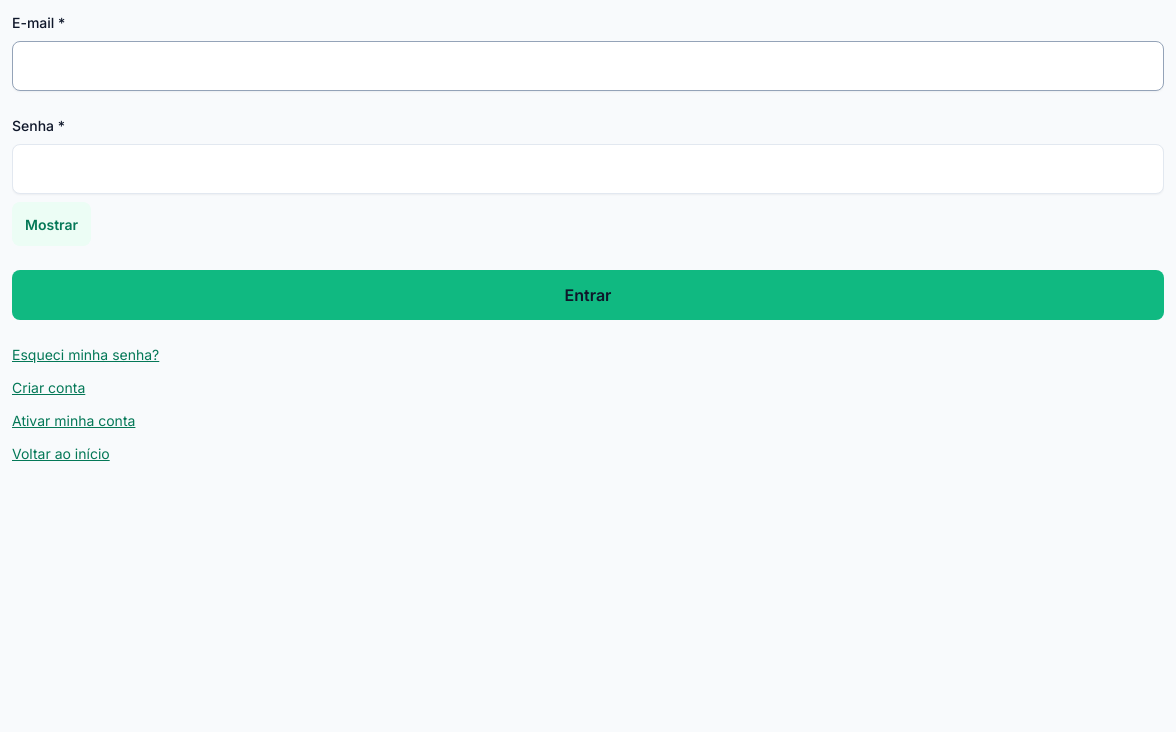
login form › shows a safe error for {"name":"ApiError","kind":"http","status":403}
This screenshot has width=1176, height=732.
Type "test@example.com" into the field labelled "E-mail *" at (588, 66), box [12, 41, 1164, 91]
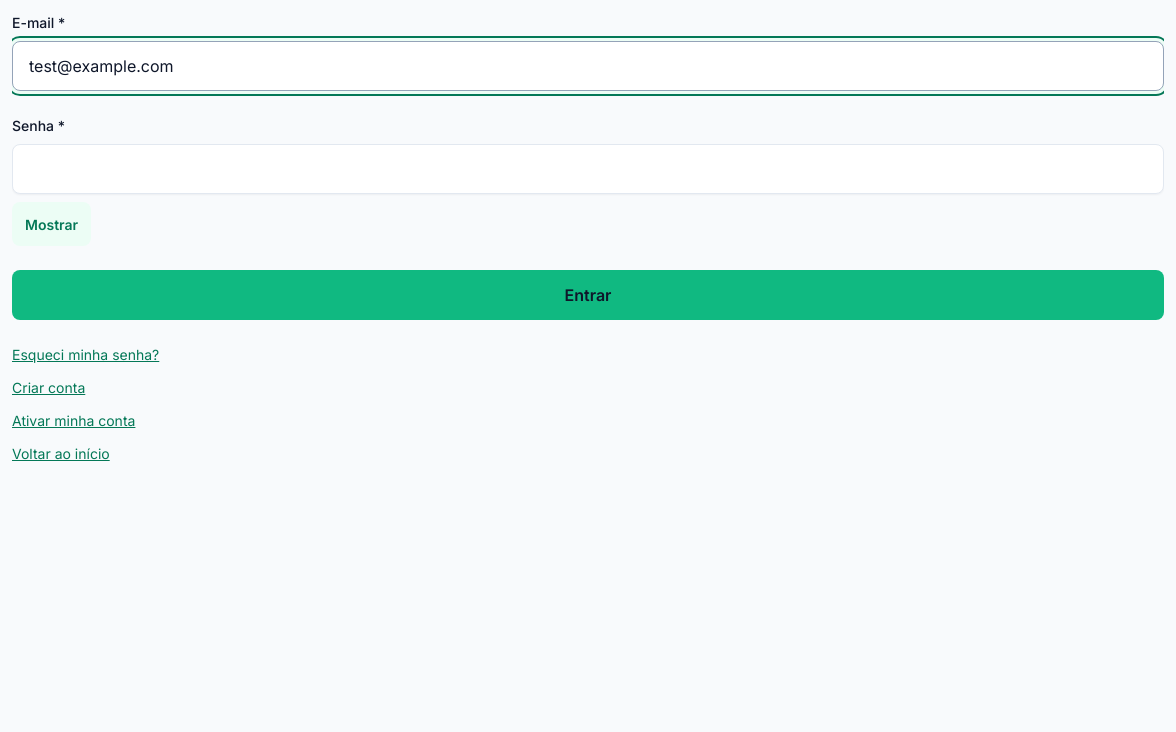
Type "synthetic-password" into the password field labelled "Senha *" at (588, 169), box [12, 144, 1164, 194]
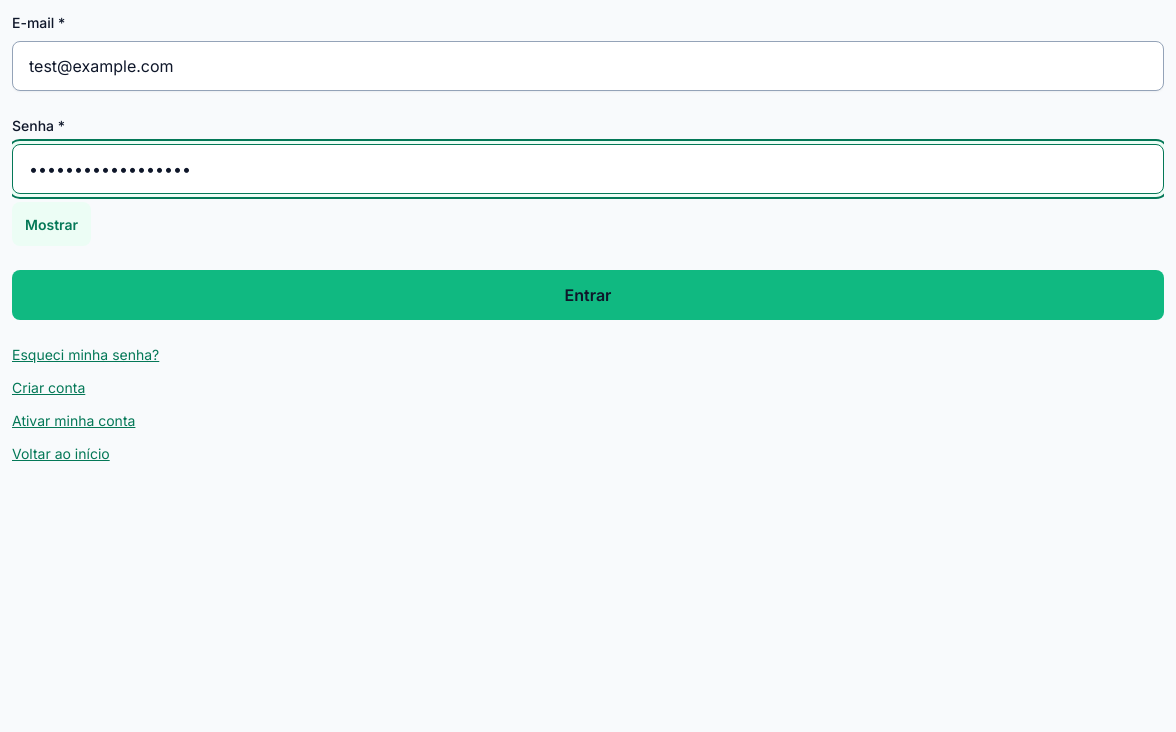
Click the button "Entrar" at (588, 295), box [12, 270, 1164, 320]
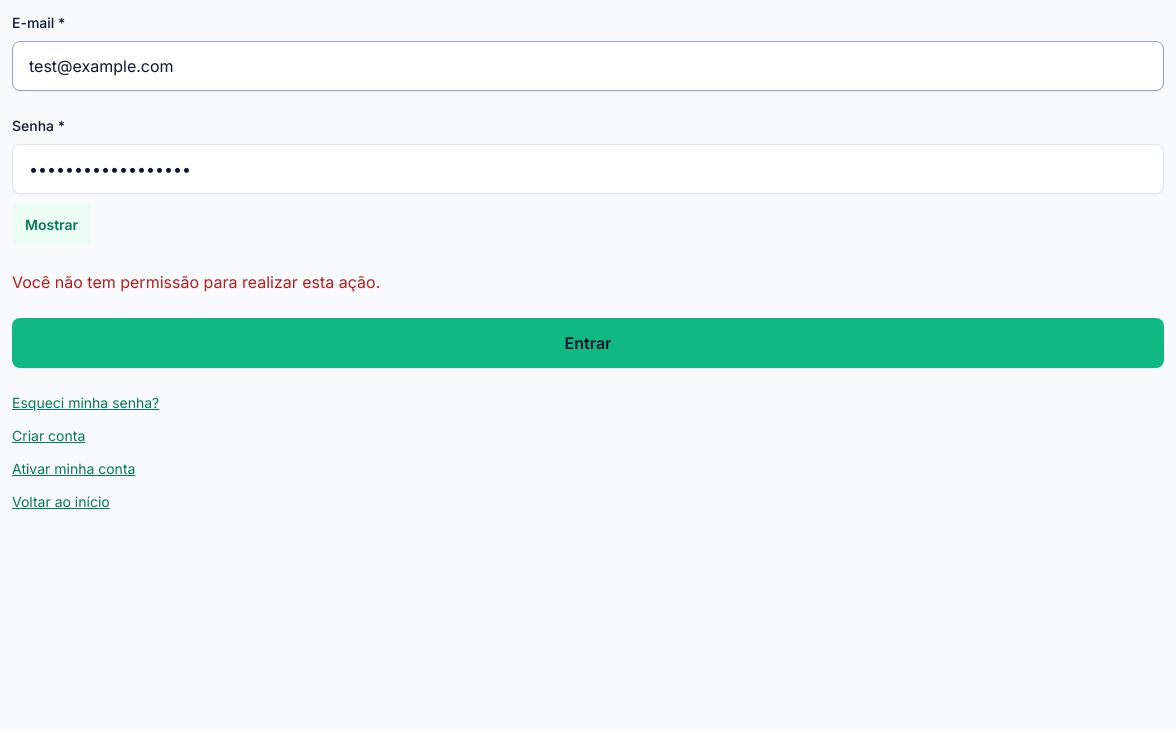
Expected: the message reads "Você não tem permissão para realizar esta ação.", [12, 272, 380, 292]
